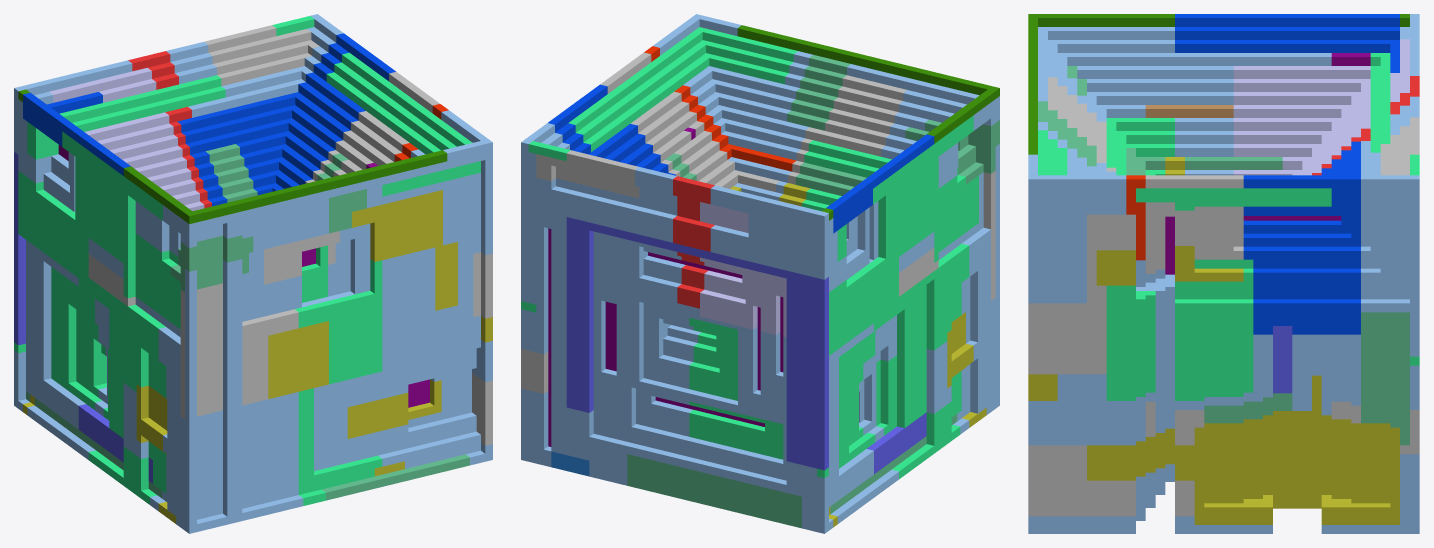
The model's file is box crap.obj.
The picture shows the model from 3 angles, left to right: view 1: azimuth 30°, elevation 25°; view 2: azimuth 150°, elevation 25°; view 3: azimuth 270°, elevation 25°; orthographic projection. The views are drawn at different scales.
Visible parts, largest first — view 1: box crap; view 2: box crap; view 3: box crap.
Boxes of the visible parts, x1,y1,x2,y2 form: box crap: (14,14,492,533); box crap: (521,14,999,533); box crap: (1028,14,1419,533).
Size of the model in its own units: 40 by 40 by 40.
1 material, 1 textured.
